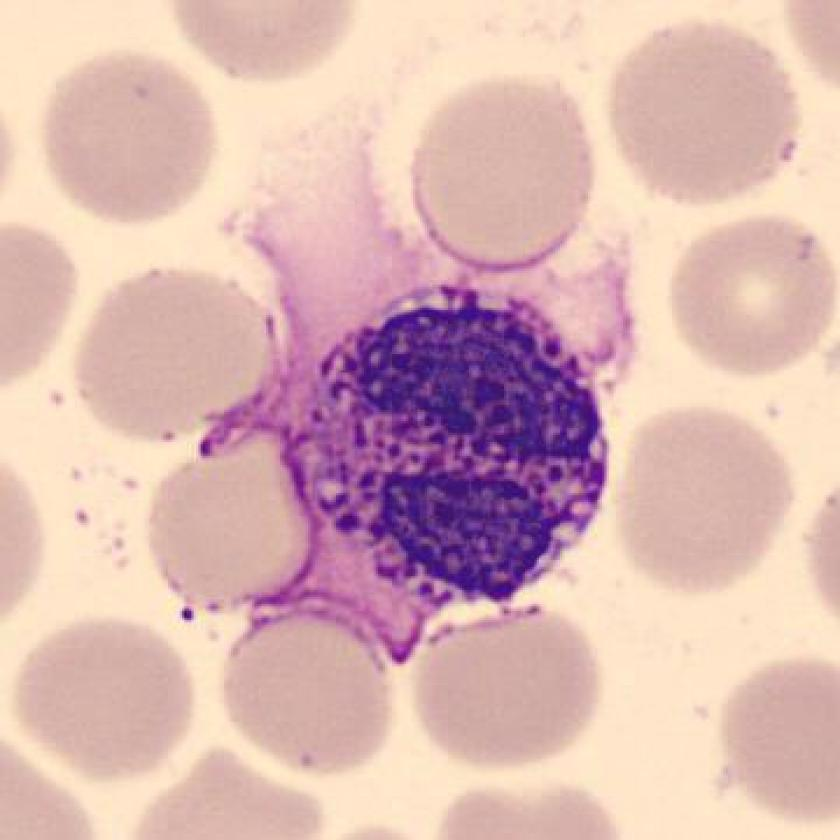basophil: (302, 274, 610, 612)
